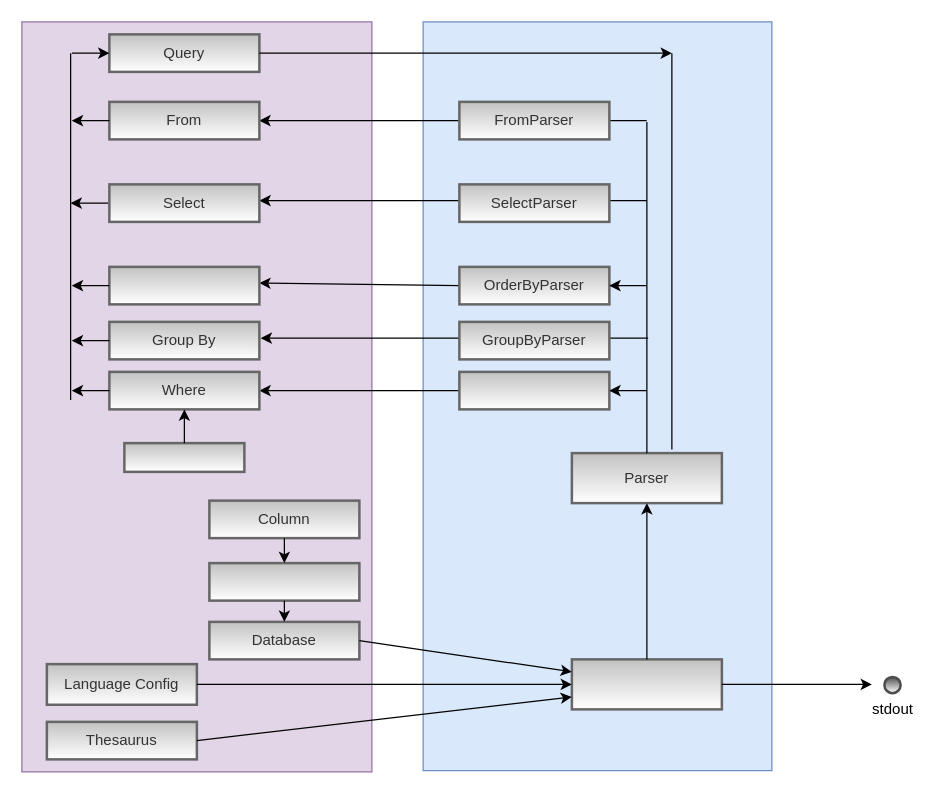
The diagram is 939 pixels wide and 794 high, and some of its shapes have lost their labels. The shapes that lost their labels are listed below. From the top down, each one's box as (x1, y1, x2, y2) in pixels, then its label:
(108, 265, 260, 305): Order By
(458, 370, 610, 410): WhereParser
(122, 441, 245, 472): Codition
(208, 561, 360, 601): Table
(570, 658, 722, 710): ToQuery
